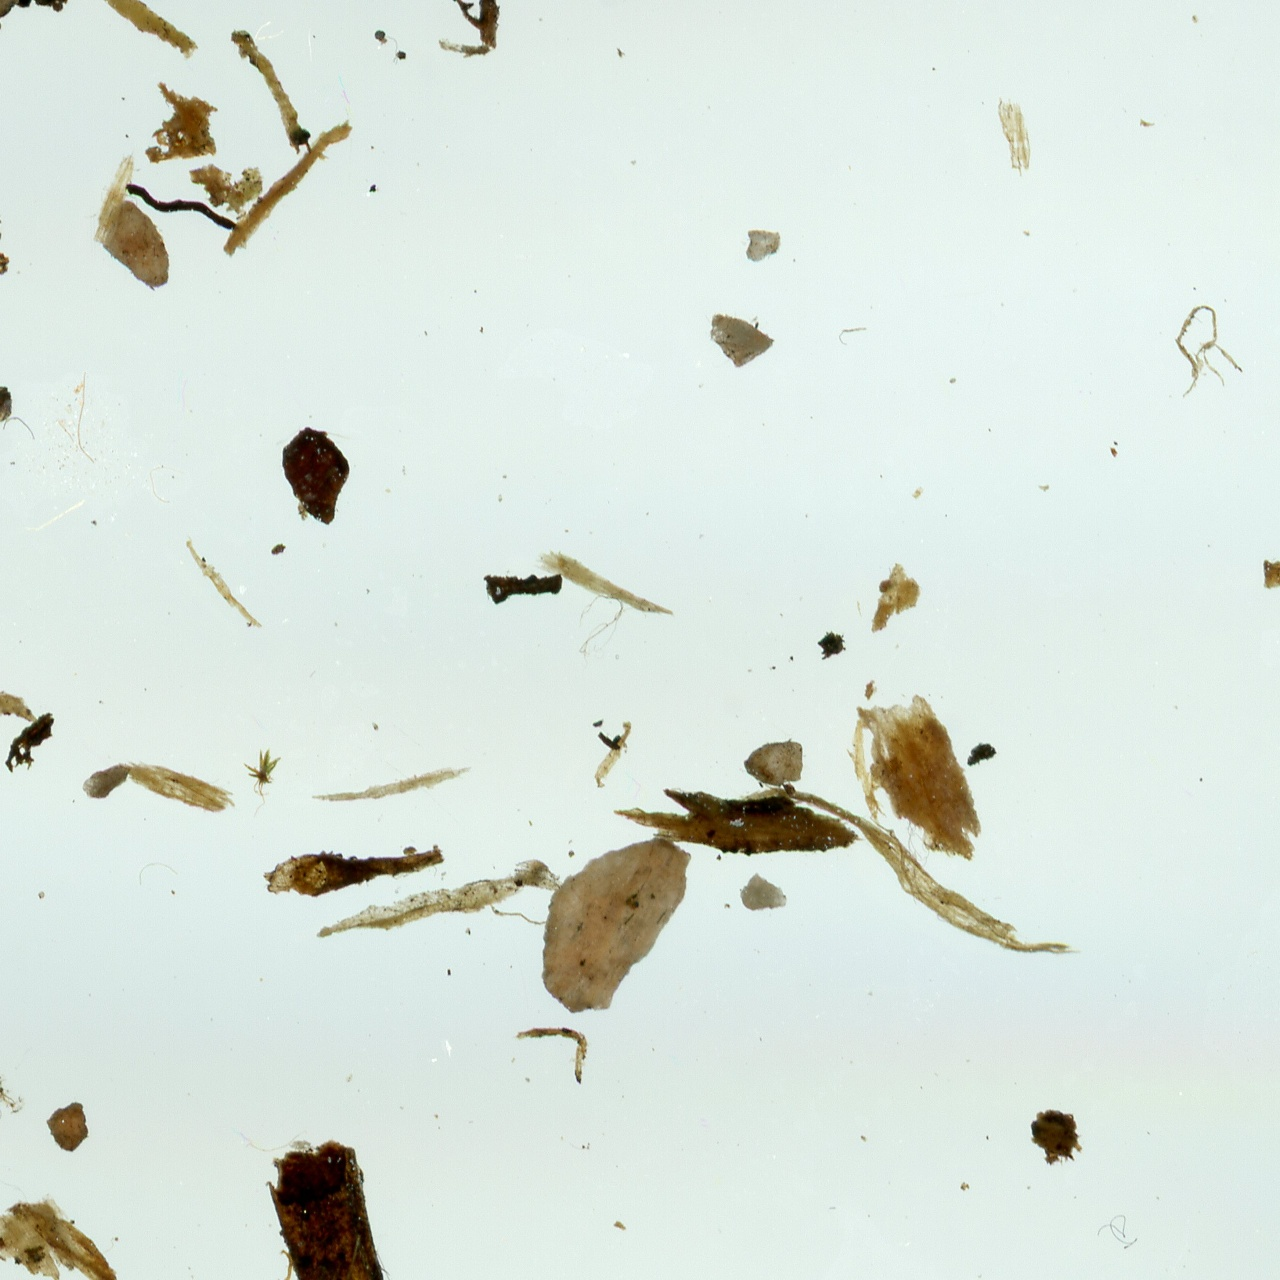arthropod: (166, 1249, 326, 1280)
